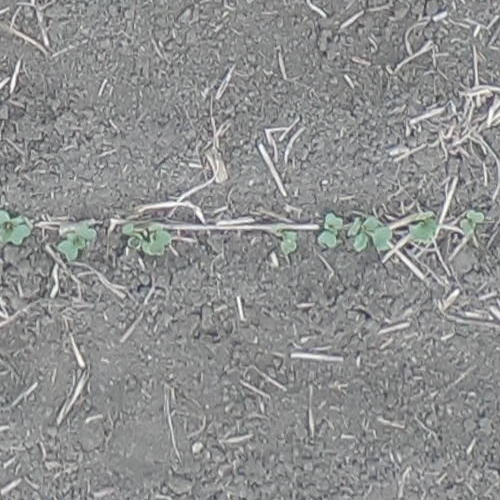plant: (348, 213, 393, 255), (122, 220, 173, 255), (56, 221, 96, 263), (315, 211, 345, 253), (0, 209, 32, 246), (406, 212, 440, 241), (457, 207, 485, 237), (275, 225, 300, 255)
